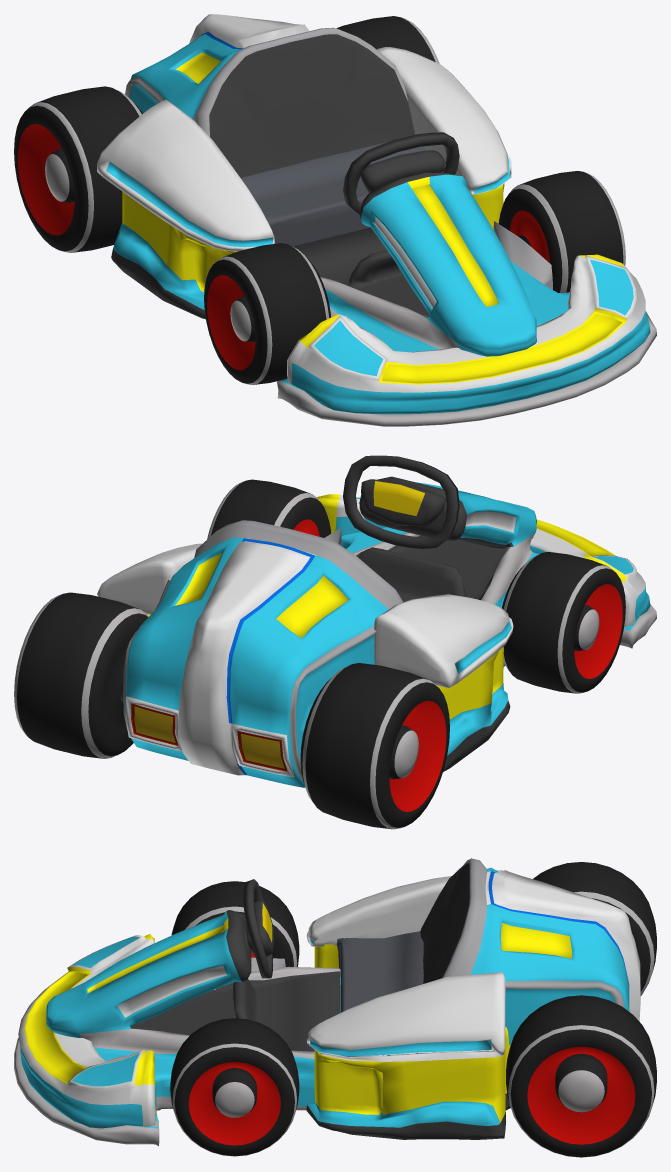
Rendered from 02_XE XANH TRANG.fbx.
The picture shows the model from 3 angles, top to bottom: view 1: azimuth 30°, elevation 25°; view 2: azimuth 150°, elevation 25°; view 3: azimuth 270°, elevation 25°; orthographic projection. The views are drawn at different scales.
Parts seen in each view (by area): view 1: Than Xe, Banh.003, Banh.004, Banh.002, Vo lang, Banh.001; view 2: Than Xe, Banh.003, Banh.001, Banh.004, Vo lang, Banh.002; view 3: Than Xe, Banh.001, Banh.002, Banh.003, Banh.004, Vo lang.
Boxes of the visible parts, x1,y1,x2,y2 form: Than Xe: (97, 14, 656, 426); Banh.003: (14, 86, 142, 252); Banh.004: (204, 243, 330, 384); Banh.002: (498, 171, 625, 292); Vo lang: (343, 132, 459, 214); Banh.001: (336, 16, 439, 63); Than Xe: (97, 476, 656, 787); Banh.003: (300, 663, 449, 829); Banh.001: (14, 592, 148, 758); Banh.004: (502, 552, 625, 693); Vo lang: (343, 455, 459, 548); Banh.002: (207, 479, 330, 539); Than Xe: (14, 858, 640, 1146); Banh.001: (506, 995, 656, 1157); Banh.002: (170, 1018, 299, 1156); Banh.003: (533, 862, 656, 995); Banh.004: (171, 881, 299, 966); Vo lang: (243, 879, 274, 978).
Bounding box in the file's own units: 125 × 67.92 × 197.
